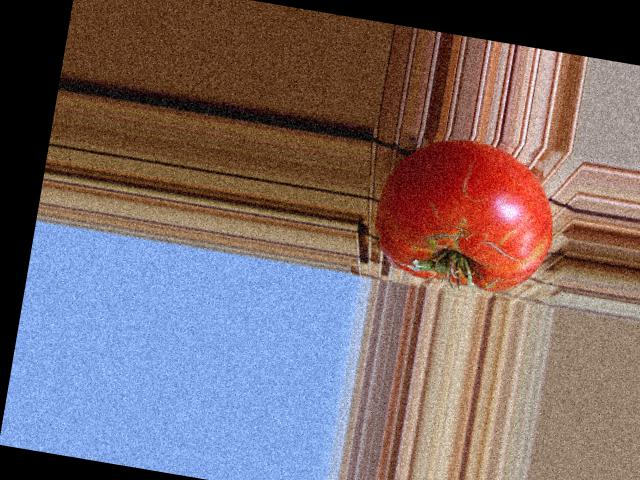tomato: (366, 129, 564, 299)
